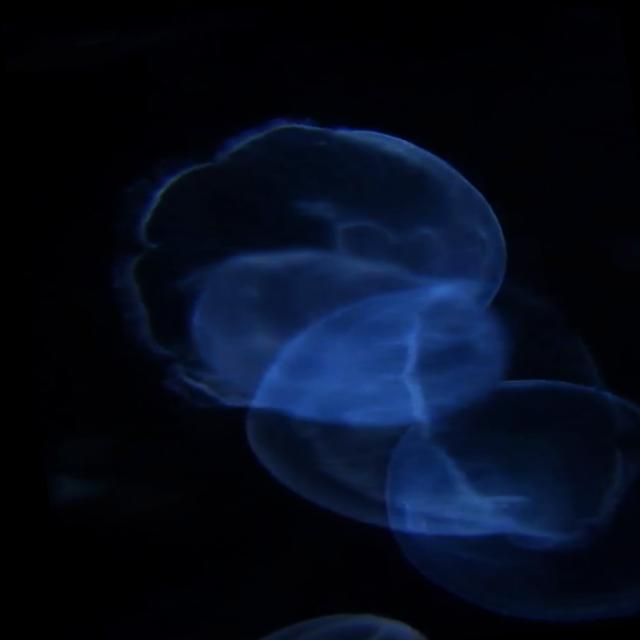Moon-jellyfish: (96, 118, 640, 629)
